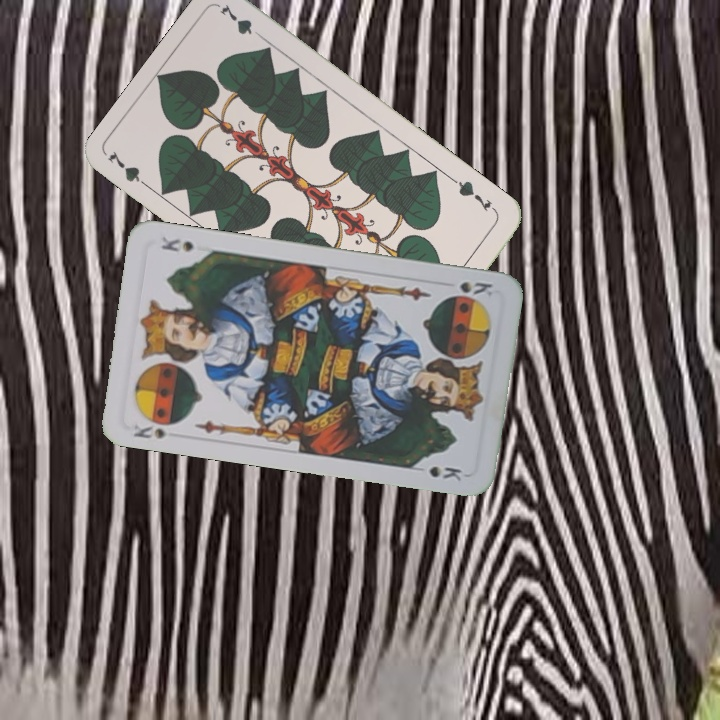G7: (104, 147, 155, 193), (449, 175, 500, 216)
SK: (455, 277, 495, 301), (129, 420, 169, 442)
